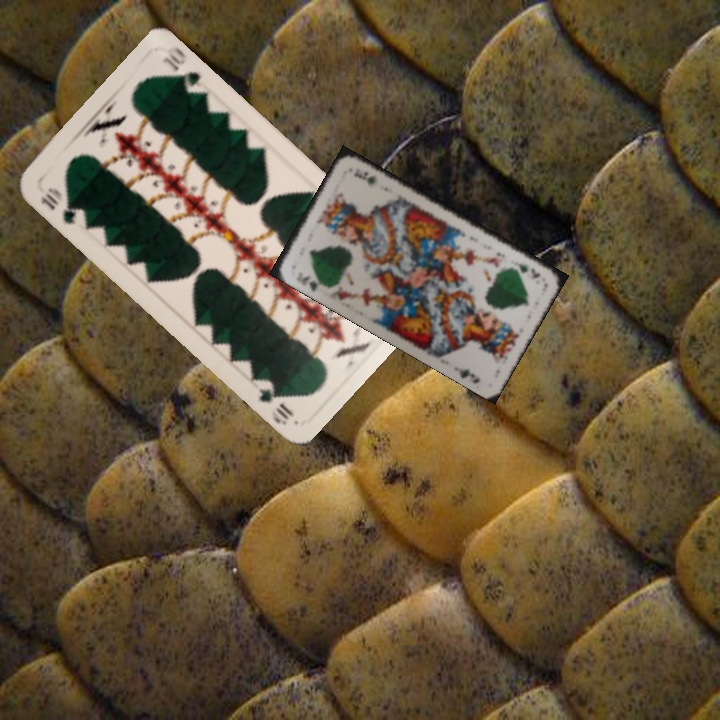G10: (36, 183, 82, 228)
GK: (292, 268, 327, 294), (511, 257, 543, 281)
